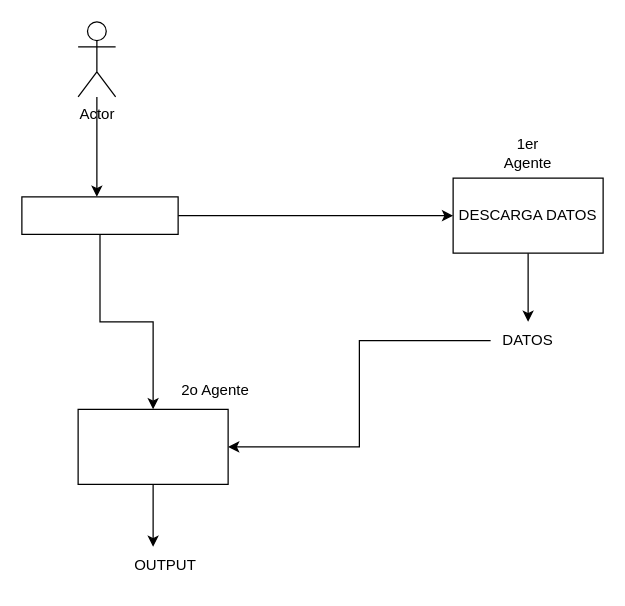
The diagram is 625 pixels wide and 606 high, and some of its shapes have lost their labels. Each missing label, with the box of its shape:
ANALISTA: (77, 408, 228, 484)
TEXTO: (21, 196, 178, 234)
